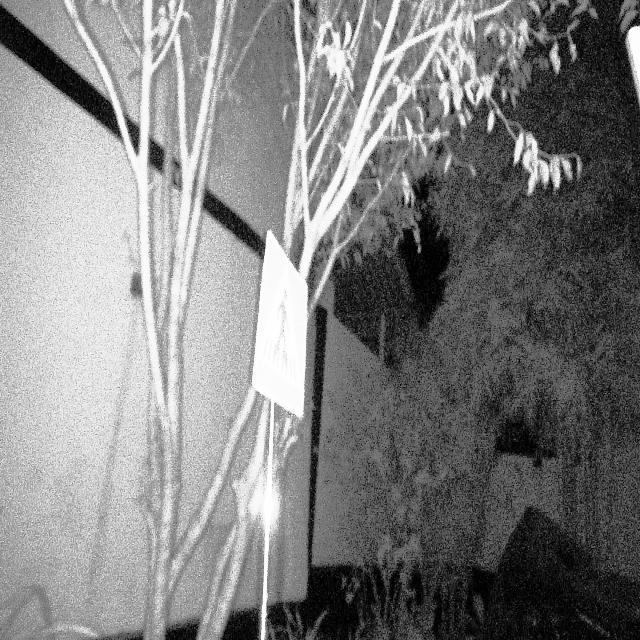Sign: (249, 227, 311, 419)
Tree: (85, 0, 242, 640), (287, 3, 477, 257)
